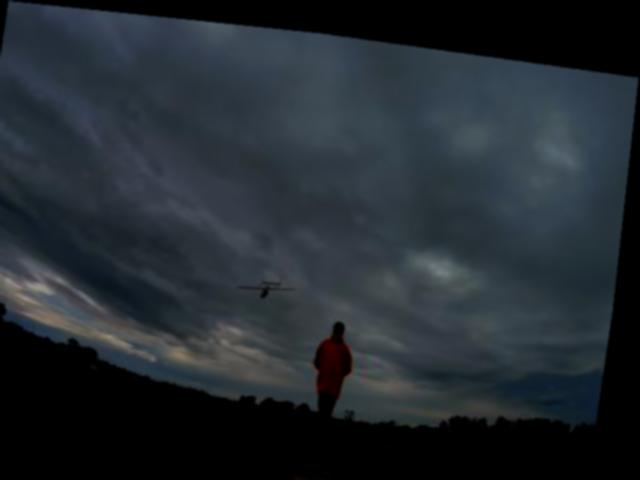uav: (241, 261, 306, 296)
